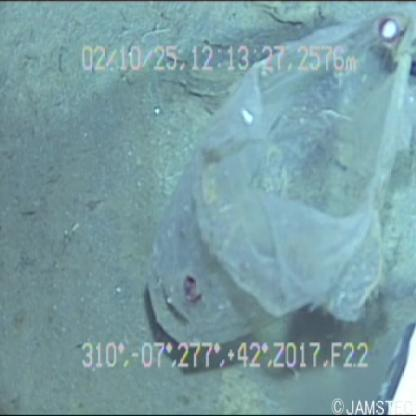Rác: (139, 9, 410, 363)
